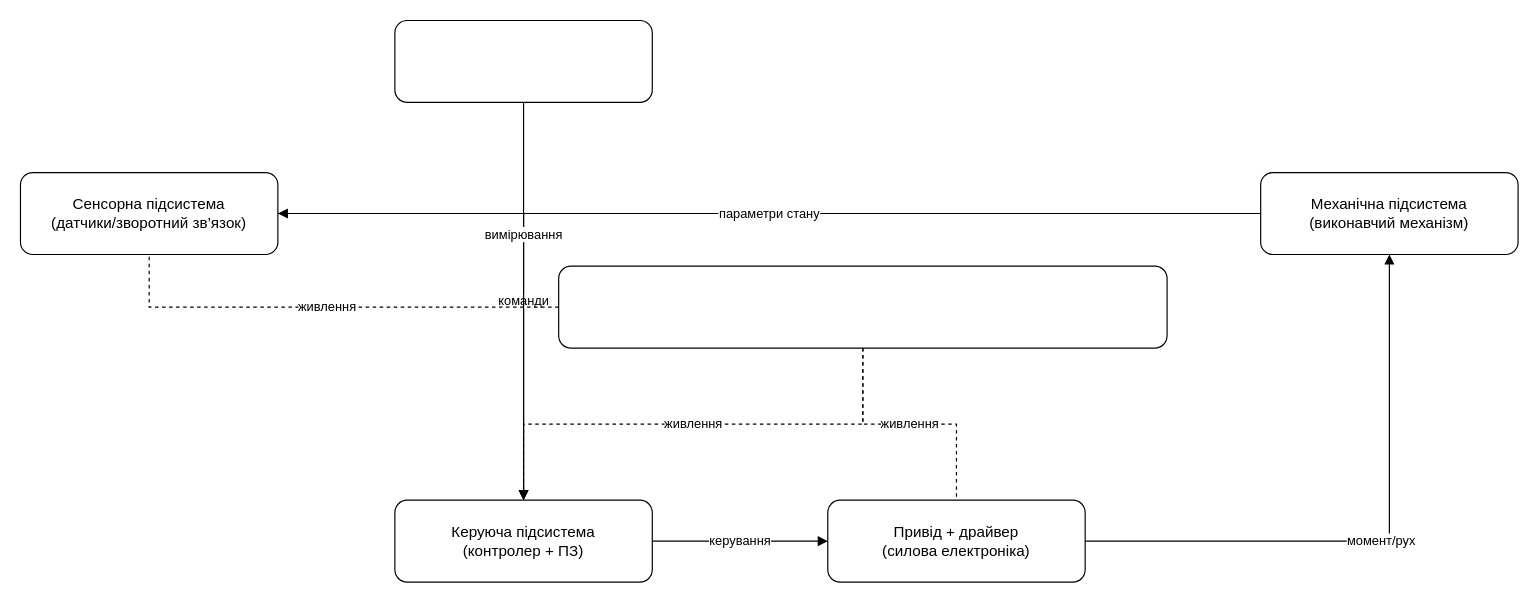
This 1539x603 diagram has some shape labels left out. Each missing label, with the centre of its shape:
"Живлення (джерело + захист)" goes at point 862,306.
"Інтерфейс оператора (команди/індикація)" goes at point 523,60.
